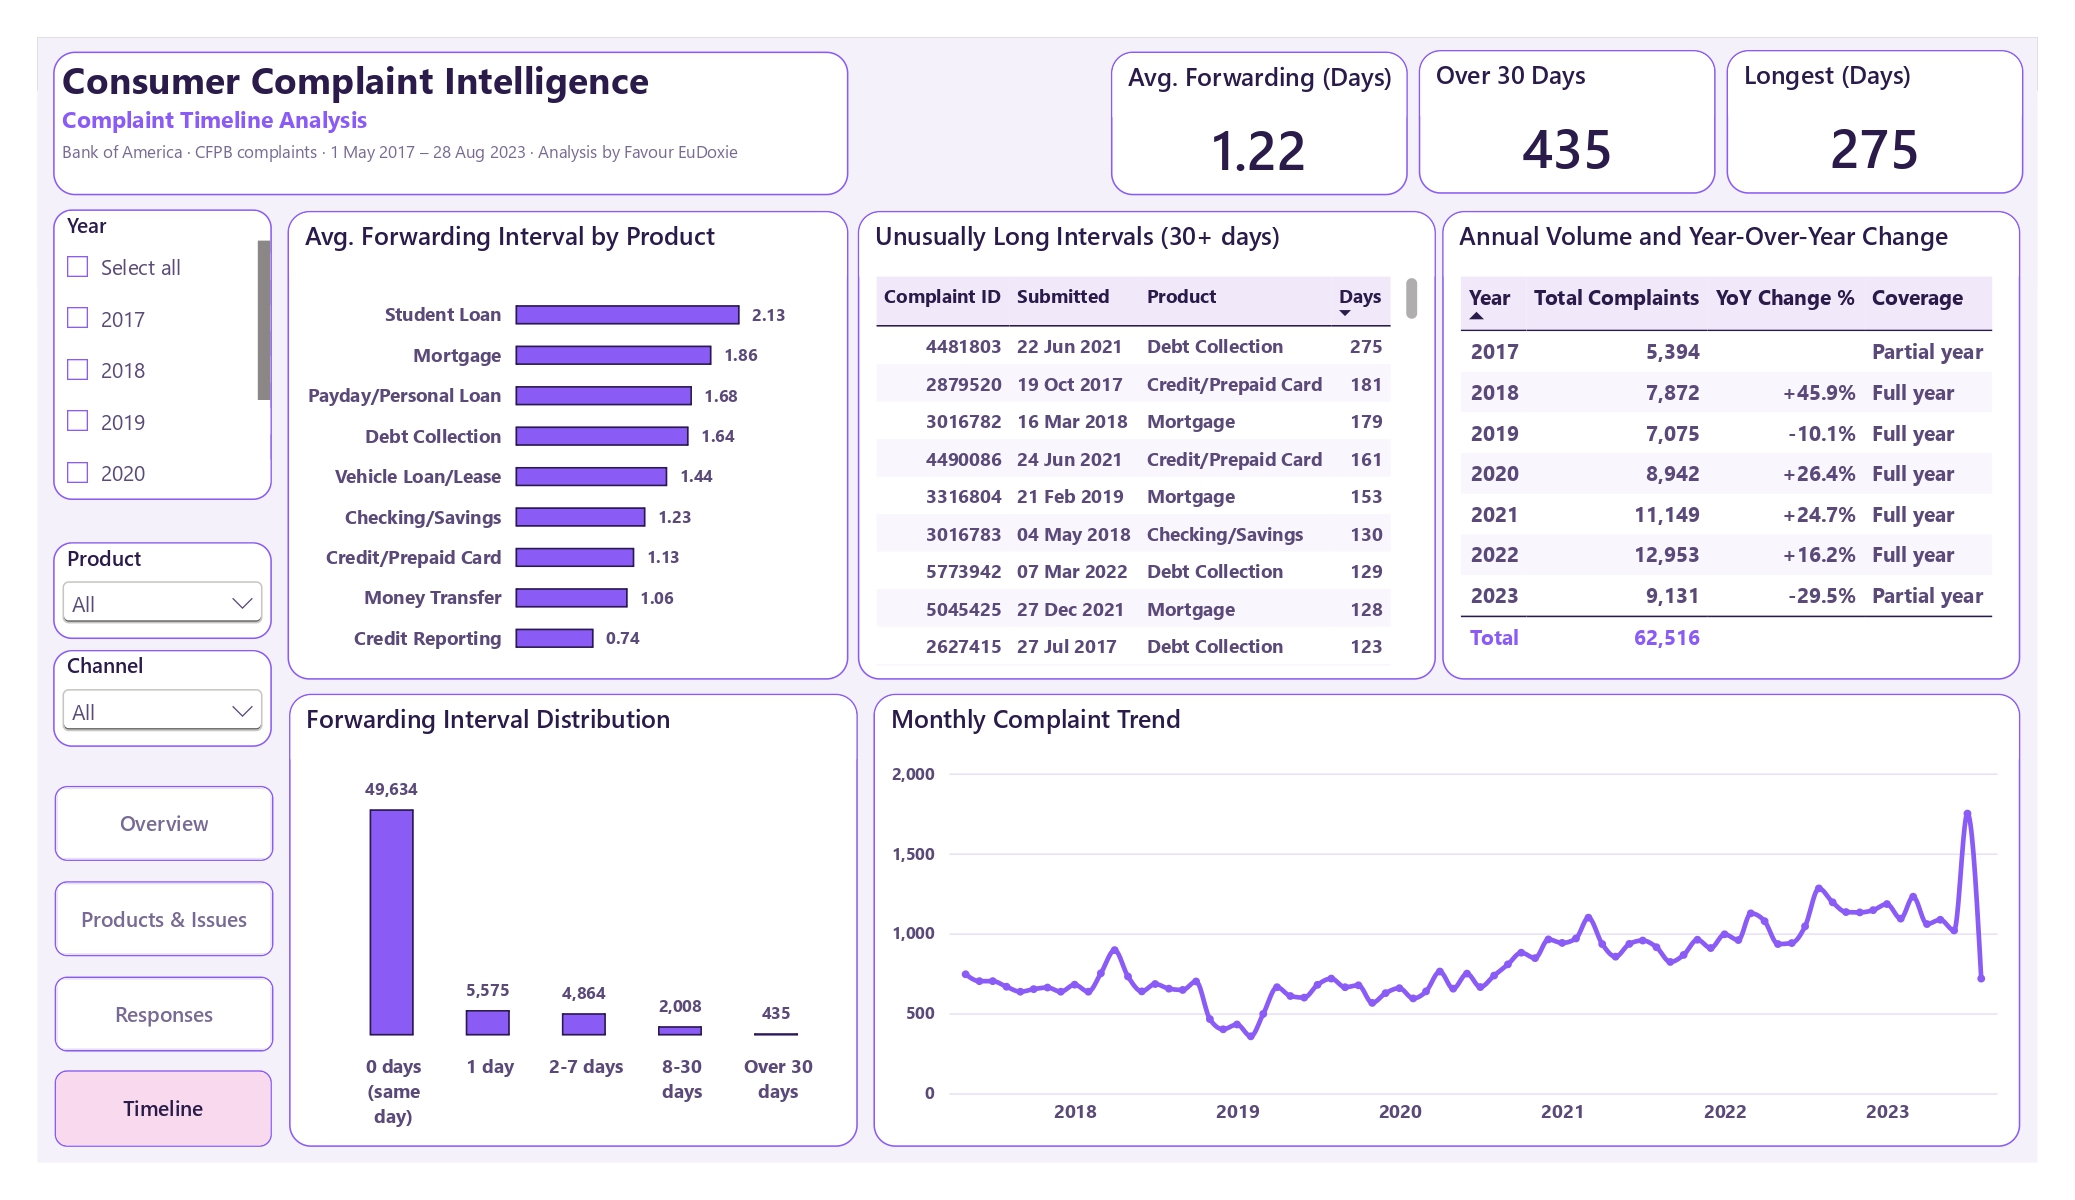

Layout of this report page (visuals, bound fields, positions):
{"tool":"powerbi","page":{"name":"Complaint Timeline","canvas":[1280,720],"ordinal":3},"visuals":[{"type":"textbox","box":[10.1,8.6,508.7,92],"z":1000},{"type":"card","title":"Avg. Forwarding (Days)","fields":{"Values":["Complaints.Avg Forwarding Days"]},"box":[686.9,8.6,189.7,92],"z":2000},{"type":"card","title":"Over 30 Days","fields":{"Values":["Complaints.Long Forwarding Complaints"]},"box":[883.8,8,190,92],"z":4000},{"type":"card","title":"Longest (Days)","fields":{"Values":["Complaints.Max Forwarding Days"]},"box":[1081,8,190,92],"z":5000},{"type":"slicer","fields":{"Values":["Complaints.Year"]},"box":[10,110,140,186],"z":6000},{"type":"slicer","fields":{"Values":["Complaints.Product Short"]},"box":[10,323,140,62],"z":7000},{"type":"slicer","fields":{"Values":["Complaints.Submitted via"]},"box":[10,392,140,62],"z":8000},{"type":"actionButton","box":[10.6,478.8,140,48],"z":9000},{"type":"actionButton","box":[10.6,539.7,140,48],"z":10000},{"type":"actionButton","box":[10.6,600.6,140,48],"z":11000},{"type":"actionButton","box":[10.6,661.5,139.5,48.5],"z":12000},{"type":"lineChart","title":"Monthly Complaint Trend","fields":{"Category":["Complaints.Year Month"],"Y":["Complaints.Total Complaints"]},"box":[535.4,420.1,734,289.7],"z":14000},{"type":"tableEx","title":"Annual Volume and Year-Over-Year Change","fields":{"Values":["Complaints.Year","Complaints.Total Complaints","Complaints.YoY Change %","Complaints.Partial Year Flag"]},"box":[899.3,110.7,370,300.3],"z":15000},{"type":"clusteredColumnChart","title":"Forwarding Interval Distribution","fields":{"Category":["Complaints.Forwarding Interval Band"],"Y":["Complaints.Total Complaints"]},"box":[160.8,420.1,364,289.7],"z":16000},{"type":"clusteredBarChart","title":"Avg. Forwarding Interval by Product","fields":{"Category":["Complaints.Product Short"],"Y":["Complaints.Avg Forwarding Days"]},"box":[160,110.7,359.4,300.3],"z":17000},{"type":"tableEx","title":"Unusually Long Intervals (30+ days)","fields":{"Values":["Complaints.Complaint ID","Complaints.Date submitted","Complaints.Product Short","Complaints.Forwarding Interval Days"]},"box":[524.7,110.7,370,300.3],"z":18000}]}

Visuals, with their boxes on the page's 1280x720 design canvas (x1, y1, x2, y2). These are canvas units, not pixel positions in the 2075x1200 screenshot, which may show the page scaled, cropped or inside an application window:
textbox: [10, 9, 519, 101]
"Avg. Forwarding (Days)" card: [687, 9, 877, 101]
"Over 30 Days" card: [884, 8, 1074, 100]
"Longest (Days)" card: [1081, 8, 1271, 100]
slicer - Complaints.Year: [10, 110, 150, 296]
slicer - Complaints.Product Short: [10, 323, 150, 385]
slicer - Complaints.Submitted via: [10, 392, 150, 454]
actionButton: [11, 479, 151, 527]
actionButton: [11, 540, 151, 588]
actionButton: [11, 601, 151, 649]
actionButton: [11, 662, 150, 710]
"Monthly Complaint Trend" lineChart: [535, 420, 1269, 710]
"Annual Volume and Year-Over-Year Change" tableEx: [899, 111, 1269, 411]
"Forwarding Interval Distribution" clusteredColumnChart: [161, 420, 525, 710]
"Avg. Forwarding Interval by Product" clusteredBarChart: [160, 111, 519, 411]
"Unusually Long Intervals (30+ days)" tableEx: [525, 111, 895, 411]
